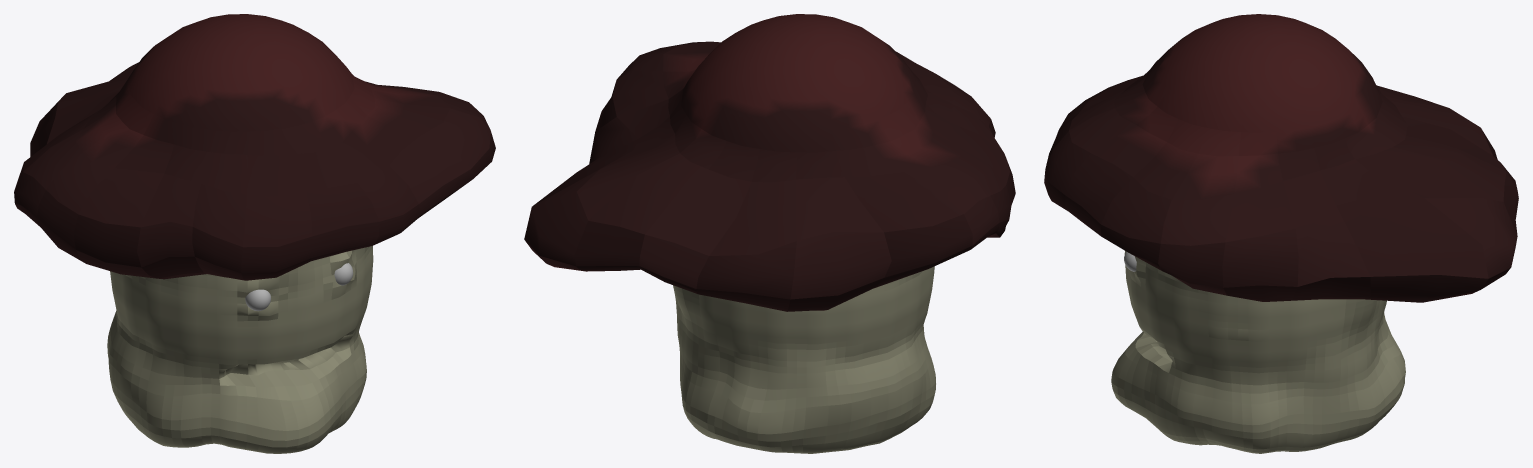
The model's file is Mushroom1.fbx.
3 views of the same model, side by side, from view 1: azimuth 30°, elevation 25°; view 2: azimuth 150°, elevation 25°; view 3: azimuth 270°, elevation 25° (orthographic).
Visible parts, largest first — view 1: pSphere1, pSphere2; view 2: pSphere1, pSphere2; view 3: pSphere1, pSphere2.
Boxes of the visible parts, left/top/right/bottom form: pSphere1: left=14, top=14, right=495, bottom=280; pSphere2: left=107, top=246, right=373, bottom=453; pSphere1: left=524, top=14, right=1015, bottom=311; pSphere2: left=673, top=266, right=935, bottom=453; pSphere1: left=1044, top=14, right=1518, bottom=302; pSphere2: left=1111, top=251, right=1405, bottom=453.
Bounding box in the file's own units: 3.62 × 3.21 × 3.54.
